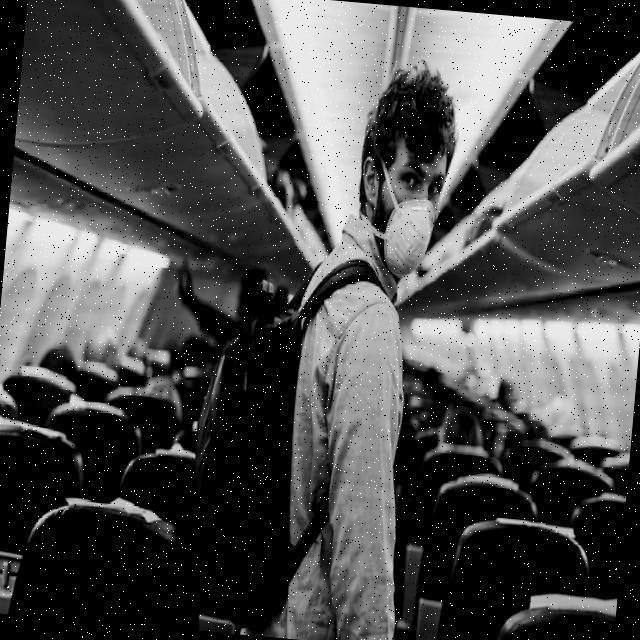mask: (375, 200, 443, 258)
no_gloves: (376, 76, 446, 148)
